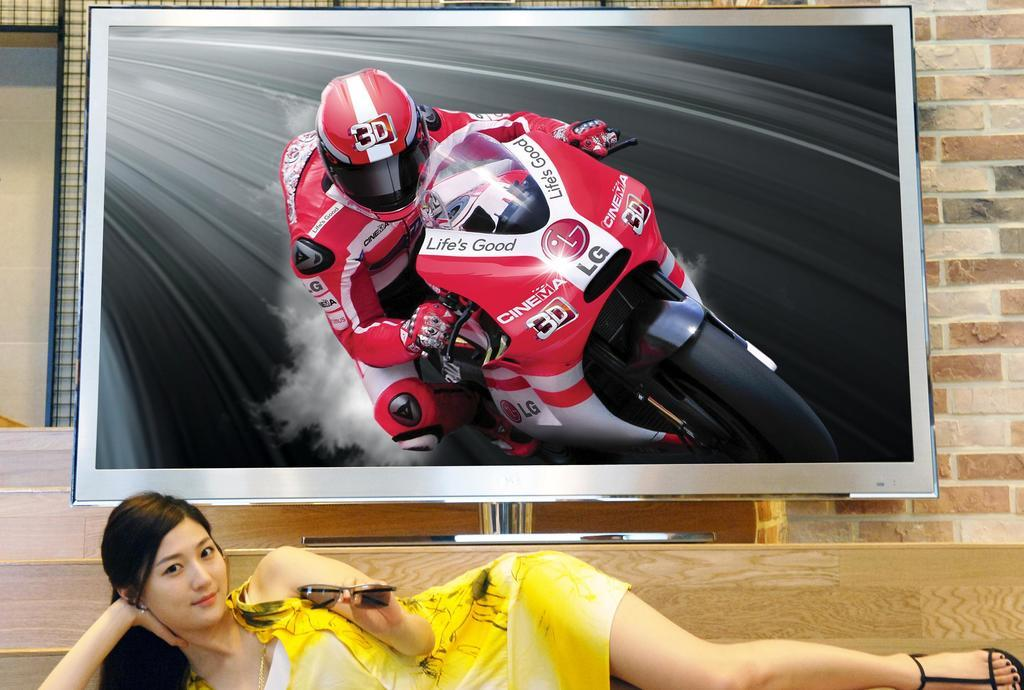helmet: (315, 67, 431, 223)
nohelmet: (99, 489, 232, 638)
